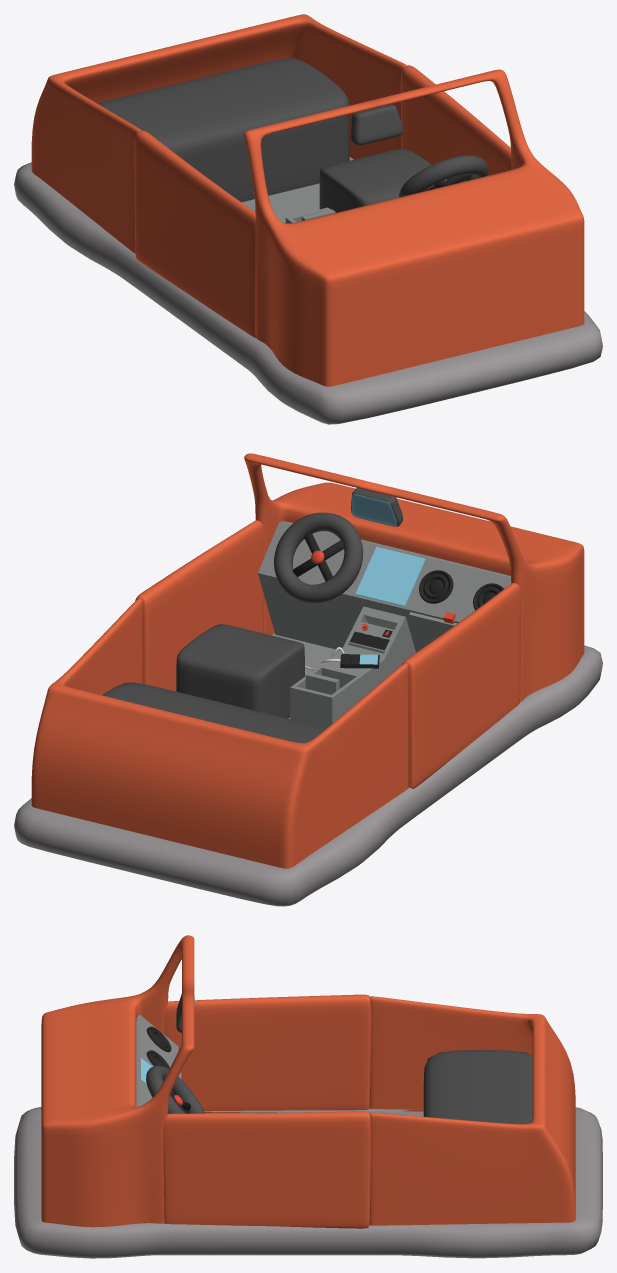
The model's file is CarMergdedForUnity.fbx.
3 renders of one model, top to bottom at view 1: azimuth 30°, elevation 25°; view 2: azimuth 150°, elevation 25°; view 3: azimuth 270°, elevation 25°, orthographic. The views are drawn at different scales.
Visible parts, largest first — view 1: CarShell, Bumper, BackSeat, DoorR, DoorL, FrontSeat, Steeringwheel, RearViewMirror, FloorPlane; view 2: CarShell, Bumper, Dashboard, DoorR, DoorL, FrontSeat, Steeringwheel, BackSeat, MapPanel, RearViewMirror, GloveCompartment, SpeakerLeft (+1 smaller); view 3: CarShell, Bumper, DoorL, DoorR, BackSeat, Dashboard, Steeringwheel.
Boxes of the visible parts, left/top/right/bottom form: CarShell: left=31, top=14, right=584, bottom=386; Bumper: left=14, top=162, right=602, bottom=424; BackSeat: left=97, top=58, right=349, bottom=202; DoorR: left=134, top=130, right=256, bottom=337; DoorL: left=400, top=65, right=511, bottom=175; FrontSeat: left=319, top=148, right=434, bottom=212; Steeringwheel: left=399, top=155, right=488, bottom=197; RearViewMirror: left=351, top=104, right=403, bottom=145; FloorPlane: left=242, top=157, right=353, bottom=223; CarShell: left=31, top=453, right=584, bottom=868; Bumper: left=14, top=645, right=602, bottom=906; Dashboard: left=258, top=521, right=511, bottom=728; DoorR: left=402, top=583, right=520, bottom=788; DoorL: left=135, top=520, right=264, bottom=691; FrontSeat: left=176, top=624, right=304, bottom=718; Steeringwheel: left=274, top=512, right=363, bottom=603; BackSeat: left=102, top=682, right=326, bottom=742; MapPanel: left=355, top=546, right=425, bottom=606; RearViewMirror: left=351, top=488, right=402, bottom=526; GloveCompartment: left=409, top=612, right=457, bottom=650; SpeakerLeft: left=419, top=570, right=453, bottom=603; CarShell: left=41, top=935, right=575, bottom=1227; Bumper: left=14, top=1107, right=602, bottom=1258; DoorL: left=163, top=1111, right=370, bottom=1228; DoorR: left=164, top=994, right=371, bottom=1112; BackSeat: left=423, top=1050, right=532, bottom=1124; Dashboard: left=136, top=1015, right=178, bottom=1106; Steeringwheel: left=146, top=1065, right=204, bottom=1113.
Size of the model in its own units: 216 by 156 by 406.
